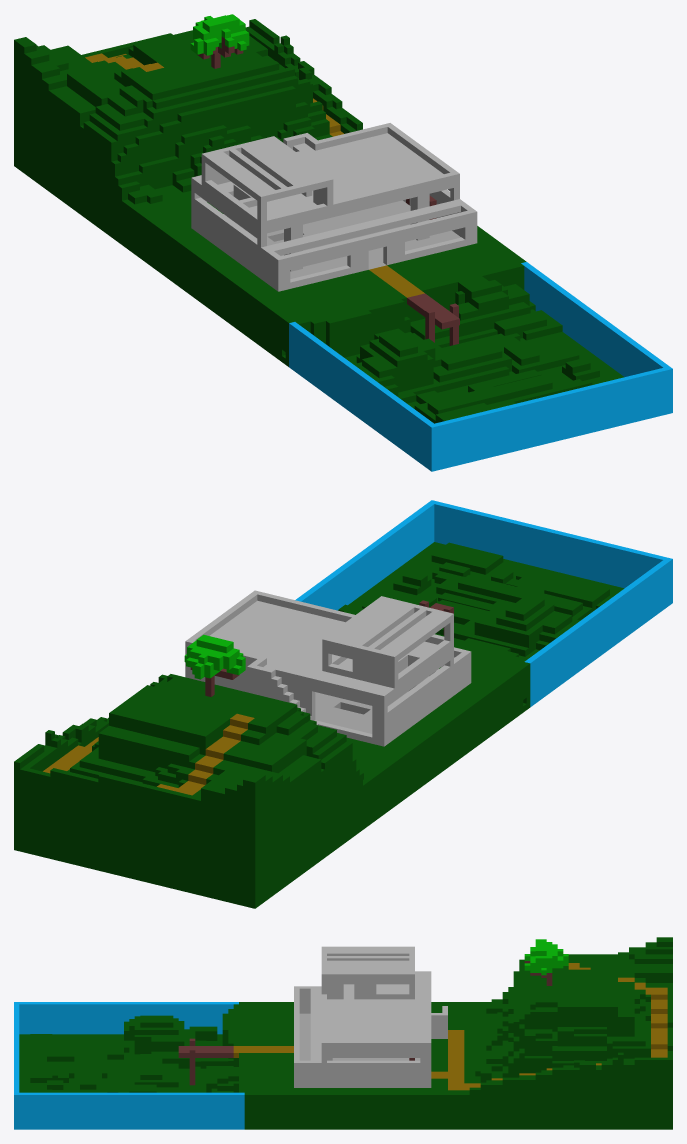
File: gamkedo-start.obj
3 renders of one model, top to bottom at view 1: azimuth 30°, elevation 25°; view 2: azimuth 150°, elevation 25°; view 3: azimuth 270°, elevation 25°, orthographic. The views are drawn at different scales.
Parts seen in each view (by area): view 1: gamkedo-start; view 2: gamkedo-start; view 3: gamkedo-start.
Boxes of the visible parts, bbox=[...] form: gamkedo-start: bbox=[14, 14, 672, 471]; gamkedo-start: bbox=[14, 500, 672, 908]; gamkedo-start: bbox=[14, 937, 672, 1129].
Bounding box in the file's own units: 40 × 28 × 120.
Materials: 1 (1 with a texture image).
